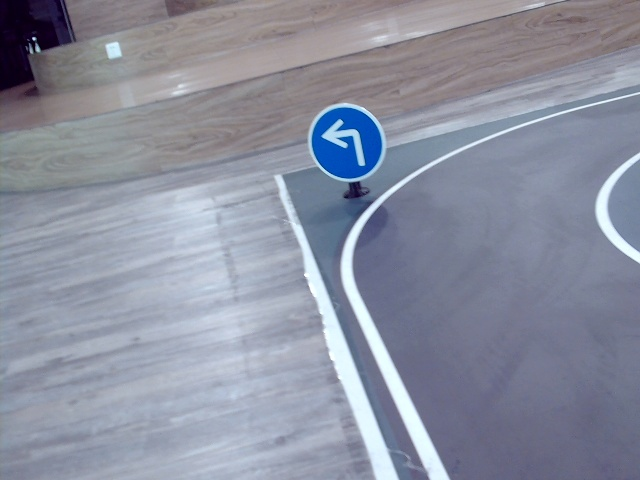turn_left: (317, 117, 371, 167)
